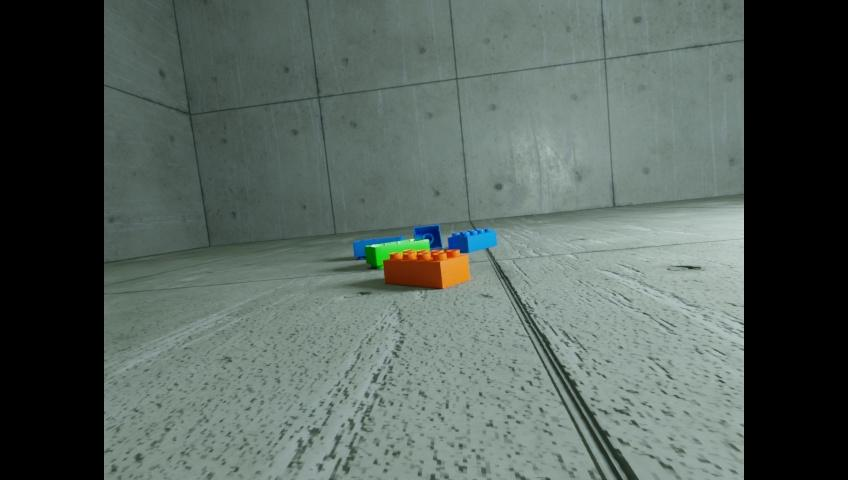2x2_blue: (414, 224, 442, 251)
4x2_blue: (447, 228, 496, 253), (352, 235, 403, 259)
4x2_green: (365, 239, 430, 269)
4x2_orange: (383, 250, 470, 289)
